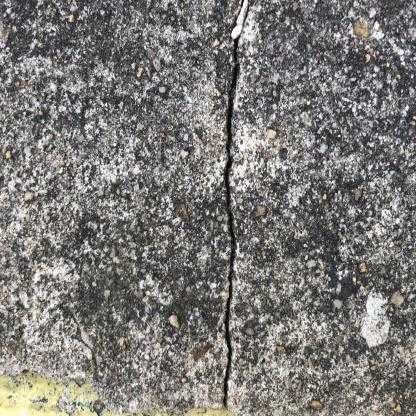crack: (223, 64, 238, 405)
